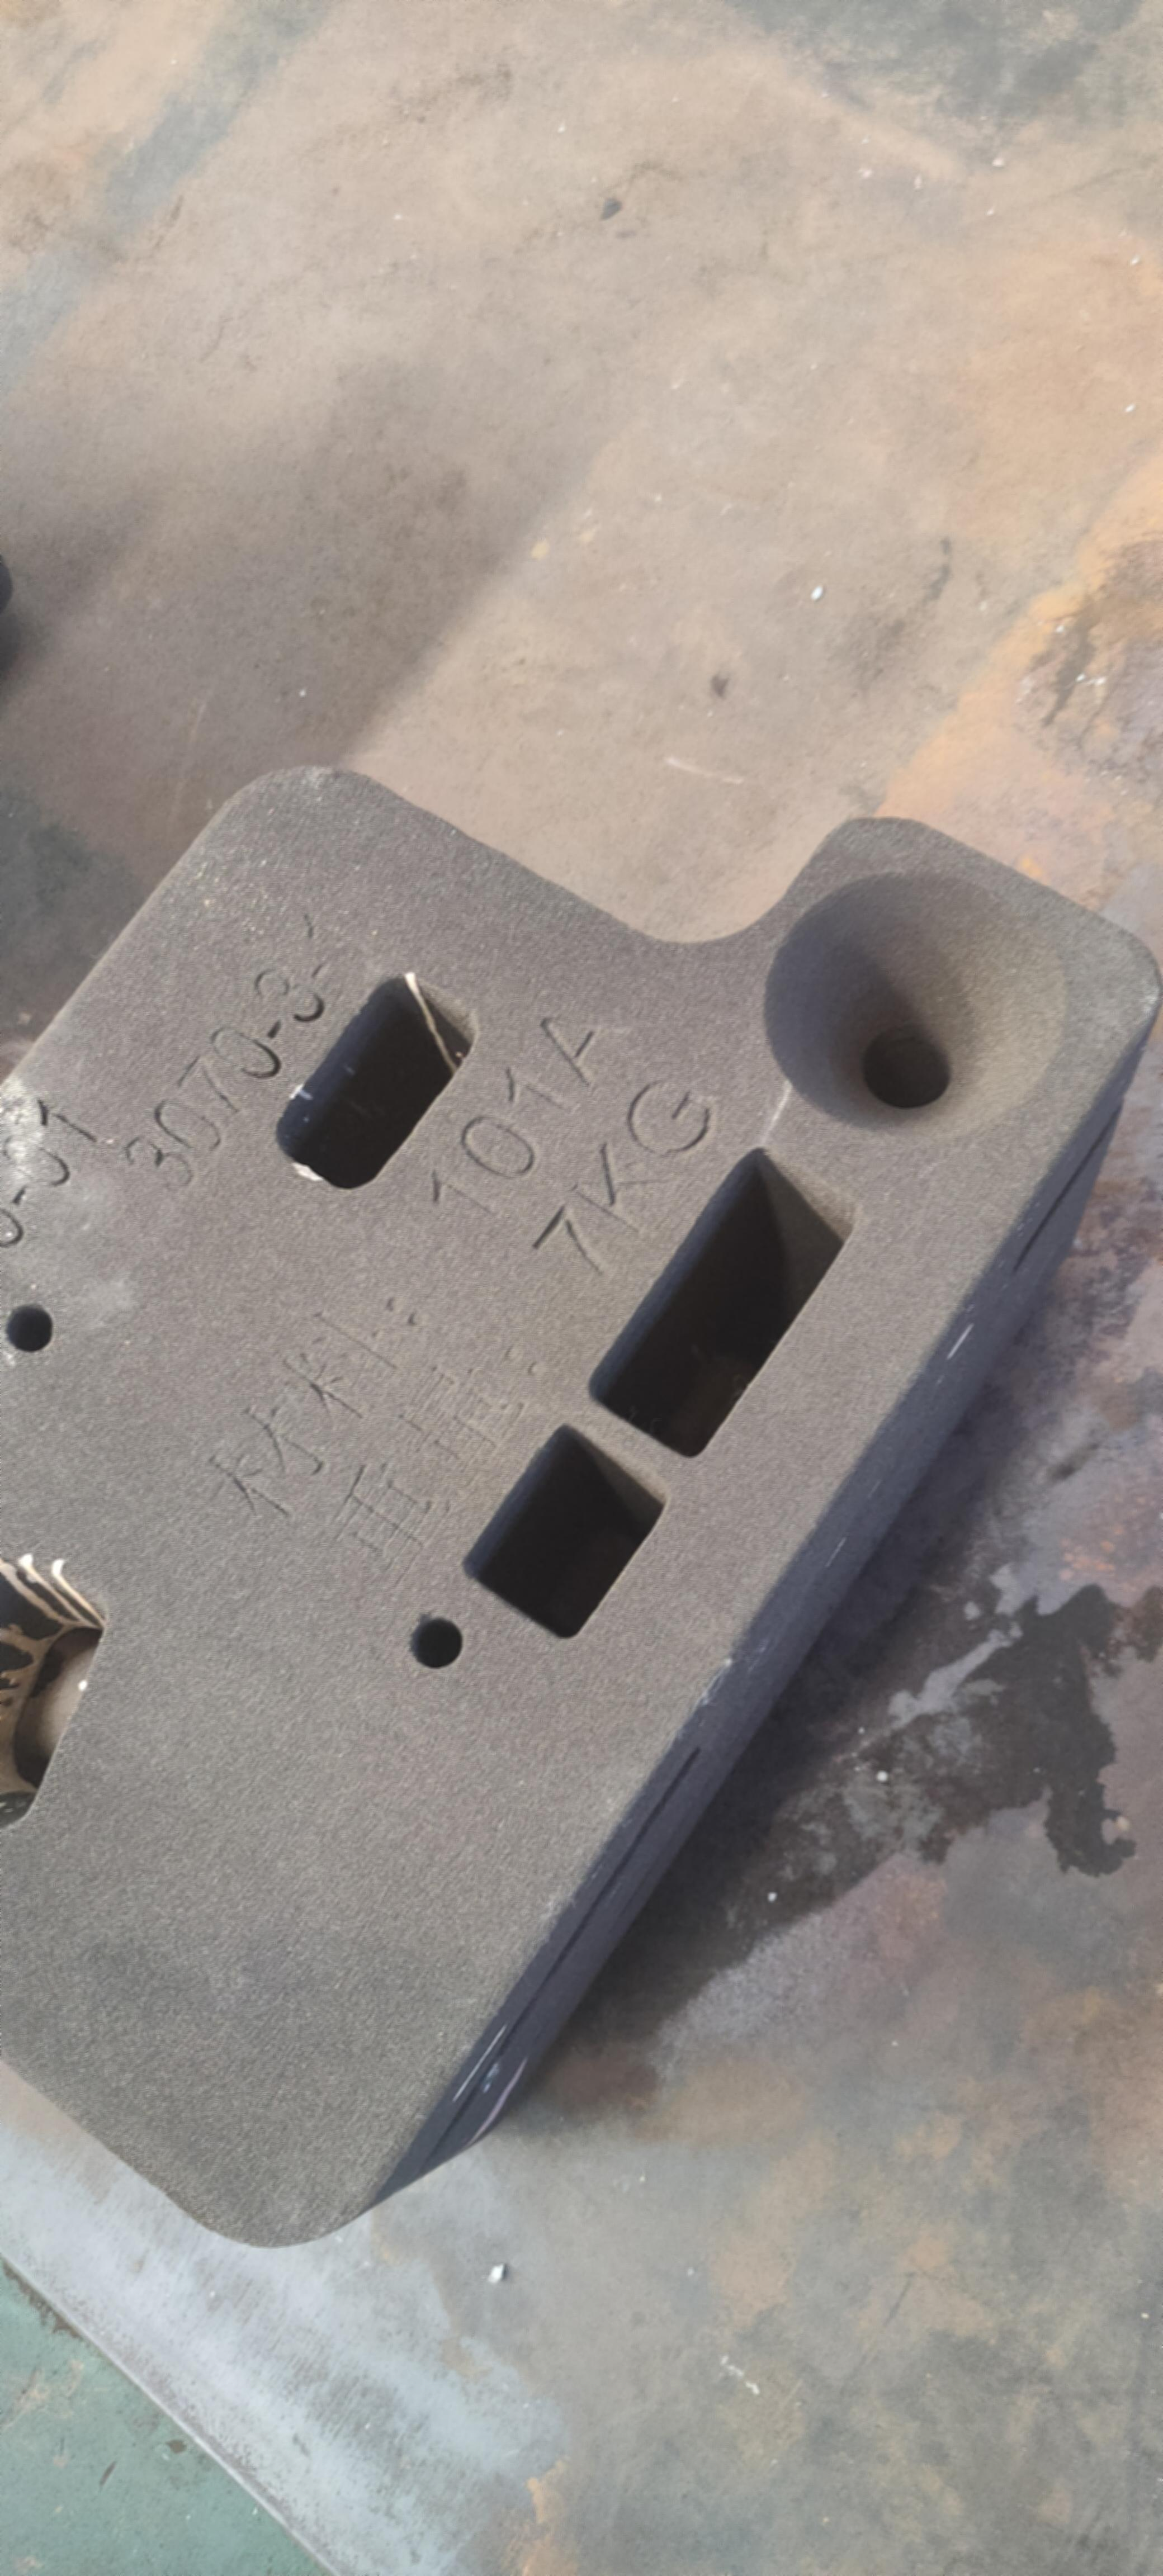pouring hole: (770, 874, 1063, 1142)
